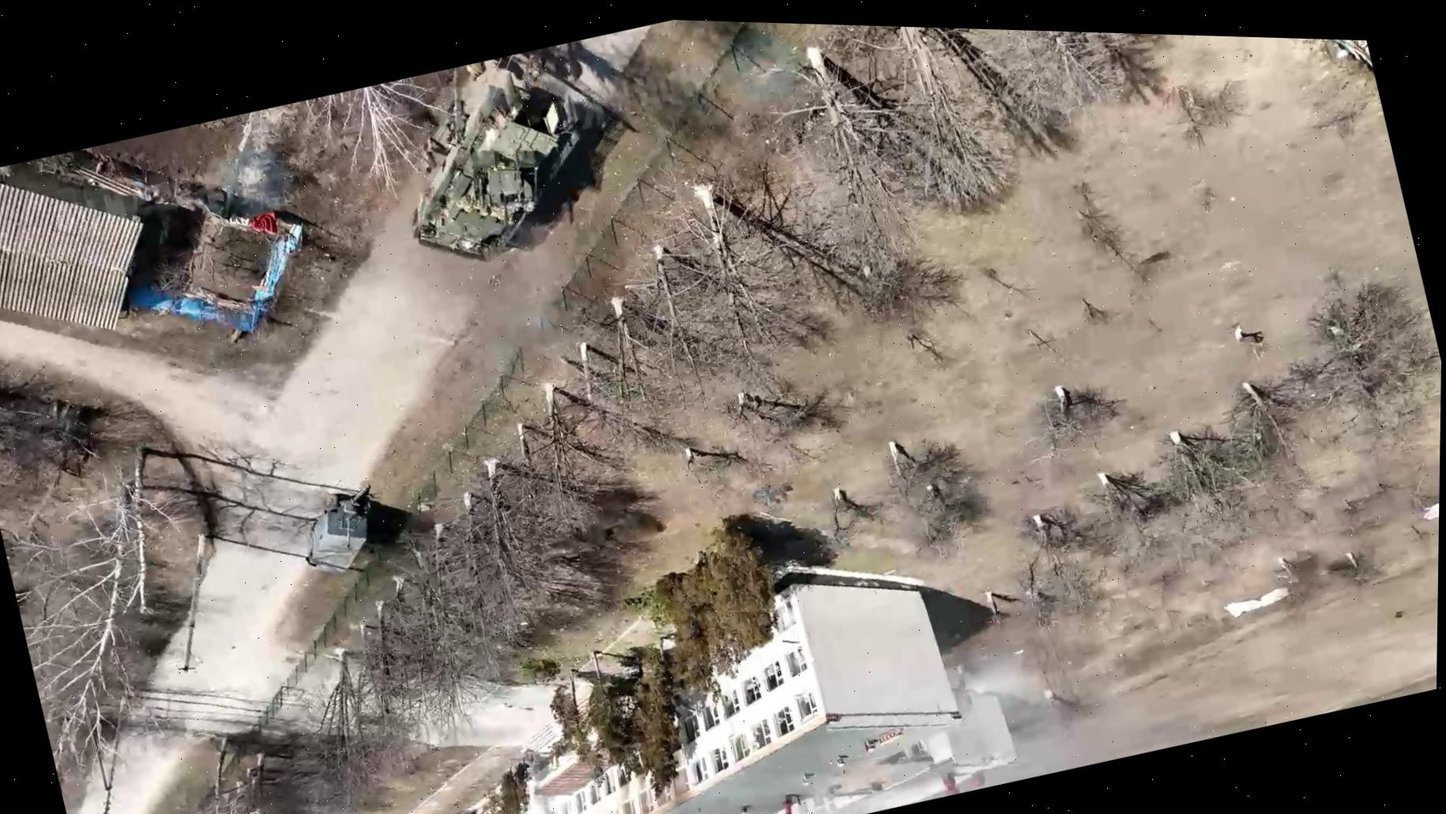person: (408, 129, 445, 180), (515, 47, 553, 89), (430, 97, 461, 148), (460, 60, 491, 88)
tank: (378, 56, 611, 283)
